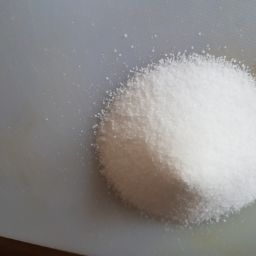Salt: (96, 28, 256, 242), (133, 82, 232, 217), (128, 88, 245, 183)
